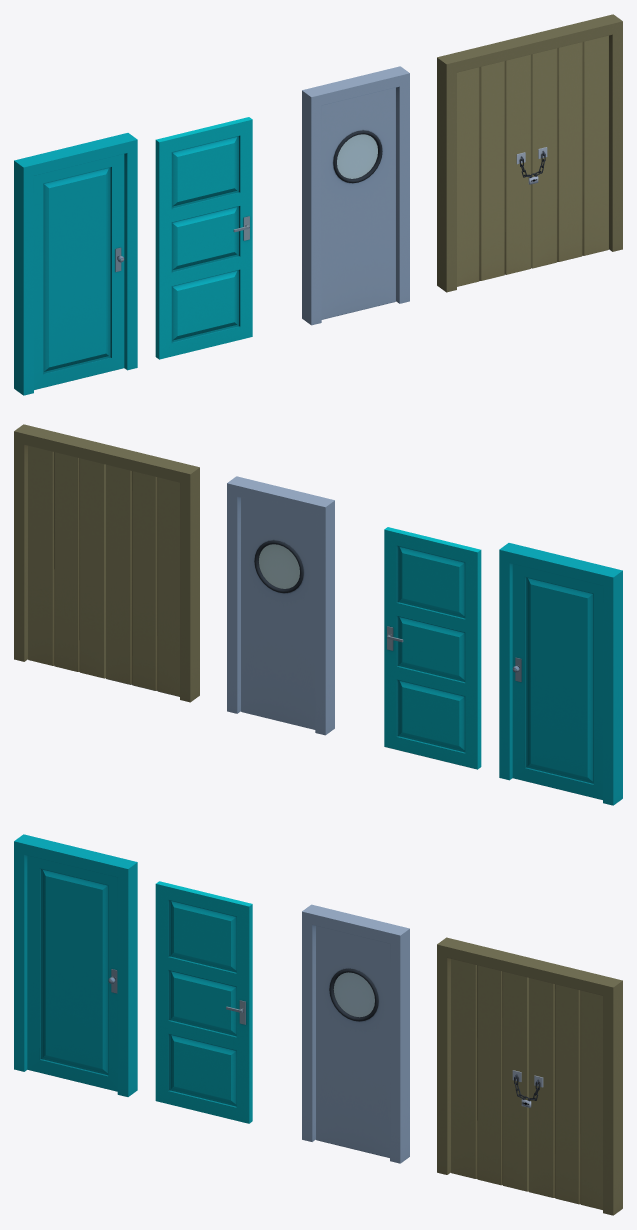
Rendered from Door.FBX.
3 views of the same model, one above another, from view 1: azimuth 30°, elevation 25°; view 2: azimuth 150°, elevation 25°; view 3: azimuth 330°, elevation 25° (orthographic).
Parts seen in each view (by area): view 1: Door (×5), Door_Frame (×3); view 2: Door (×5), Door_Frame (×3); view 3: Door (×5), Door_Frame (×3).
Part boxes in pixels (box(x1,y1,x2,y2)): Door (×5): box(34, 35, 608, 389); Door_Frame (×3): box(14, 14, 622, 395); Door (×5): box(28, 445, 602, 799); Door_Frame (×3): box(14, 424, 622, 805); Door (×5): box(27, 855, 602, 1209); Door_Frame (×3): box(14, 834, 622, 1215).
Bounding box in the file's own units: 5.77 × 2.1 × 0.2107.
